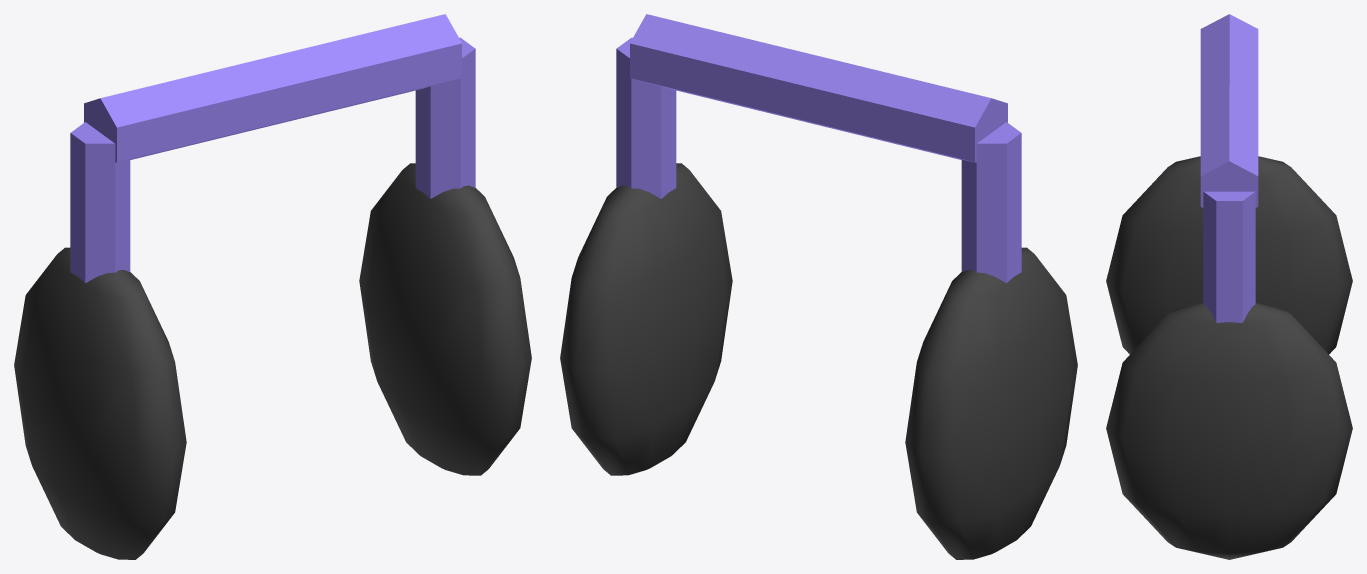
3 views of the same model, side by side, from view 1: azimuth 30°, elevation 25°; view 2: azimuth 150°, elevation 25°; view 3: azimuth 270°, elevation 25° (orthographic). The views are drawn at different scales.
Parts seen in each view (by area): view 1: Ear cushion.001, Ear cushion, Headband, Band side, Band side.001; view 2: Ear cushion.001, Ear cushion, Headband, Band side, Band side.001; view 3: Ear cushion.001, Ear cushion, Headband, Band side.001.
Part boxes in pixels (box(x1,y1,x2,y2)): Ear cushion.001: box(359, 163, 531, 475); Ear cushion: box(14, 247, 186, 559); Headband: box(84, 14, 461, 162); Band side: box(70, 122, 130, 282); Band side.001: box(415, 37, 475, 198); Ear cushion.001: box(560, 163, 732, 475); Ear cushion: box(905, 247, 1077, 559); Headband: box(630, 14, 1007, 162); Band side: box(961, 122, 1021, 282); Band side.001: box(616, 37, 676, 198); Ear cushion.001: box(1106, 303, 1352, 559); Ear cushion: box(1106, 156, 1352, 354); Headband: box(1200, 14, 1258, 207); Band side.001: box(1203, 191, 1255, 322).
Size of the model in its own units: 31 by 30.3 by 17.
